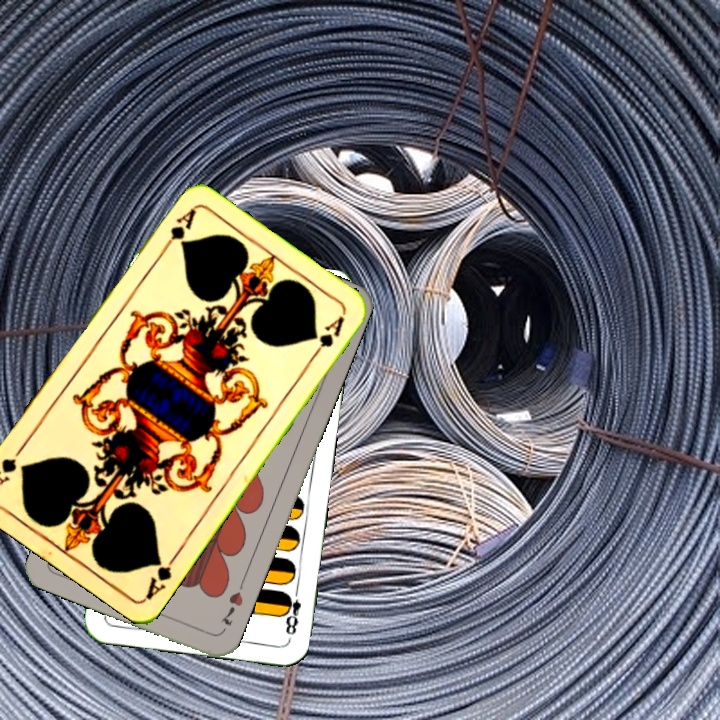E8: (279, 582, 304, 637)
GA: (156, 204, 199, 257), (142, 549, 181, 602)
H7: (216, 577, 247, 629)
